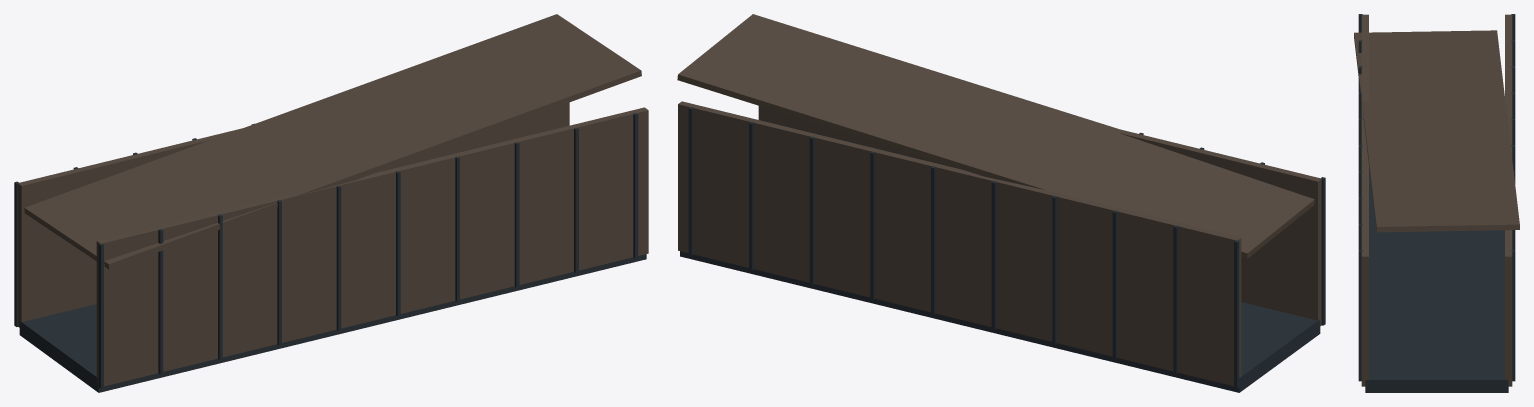
Rendered from broken-container-3.glb.
3 views of the same model, side by side, from view 1: azimuth 30°, elevation 25°; view 2: azimuth 150°, elevation 25°; view 3: azimuth 270°, elevation 25° (orthographic). The views are drawn at different scales.
Parts seen in each view (by area): view 1: broken-container/2/KR-230-3; view 2: broken-container/2/KR-230-3; view 3: broken-container/2/KR-230-3.
Boxes of the visible parts, x1,y1,x2,y2 form: broken-container/2/KR-230-3: (14, 14, 648, 392); broken-container/2/KR-230-3: (677, 14, 1325, 392); broken-container/2/KR-230-3: (1354, 14, 1519, 392).
Bounding box in the file's own units: 12.07 × 3.85 × 3.48.
